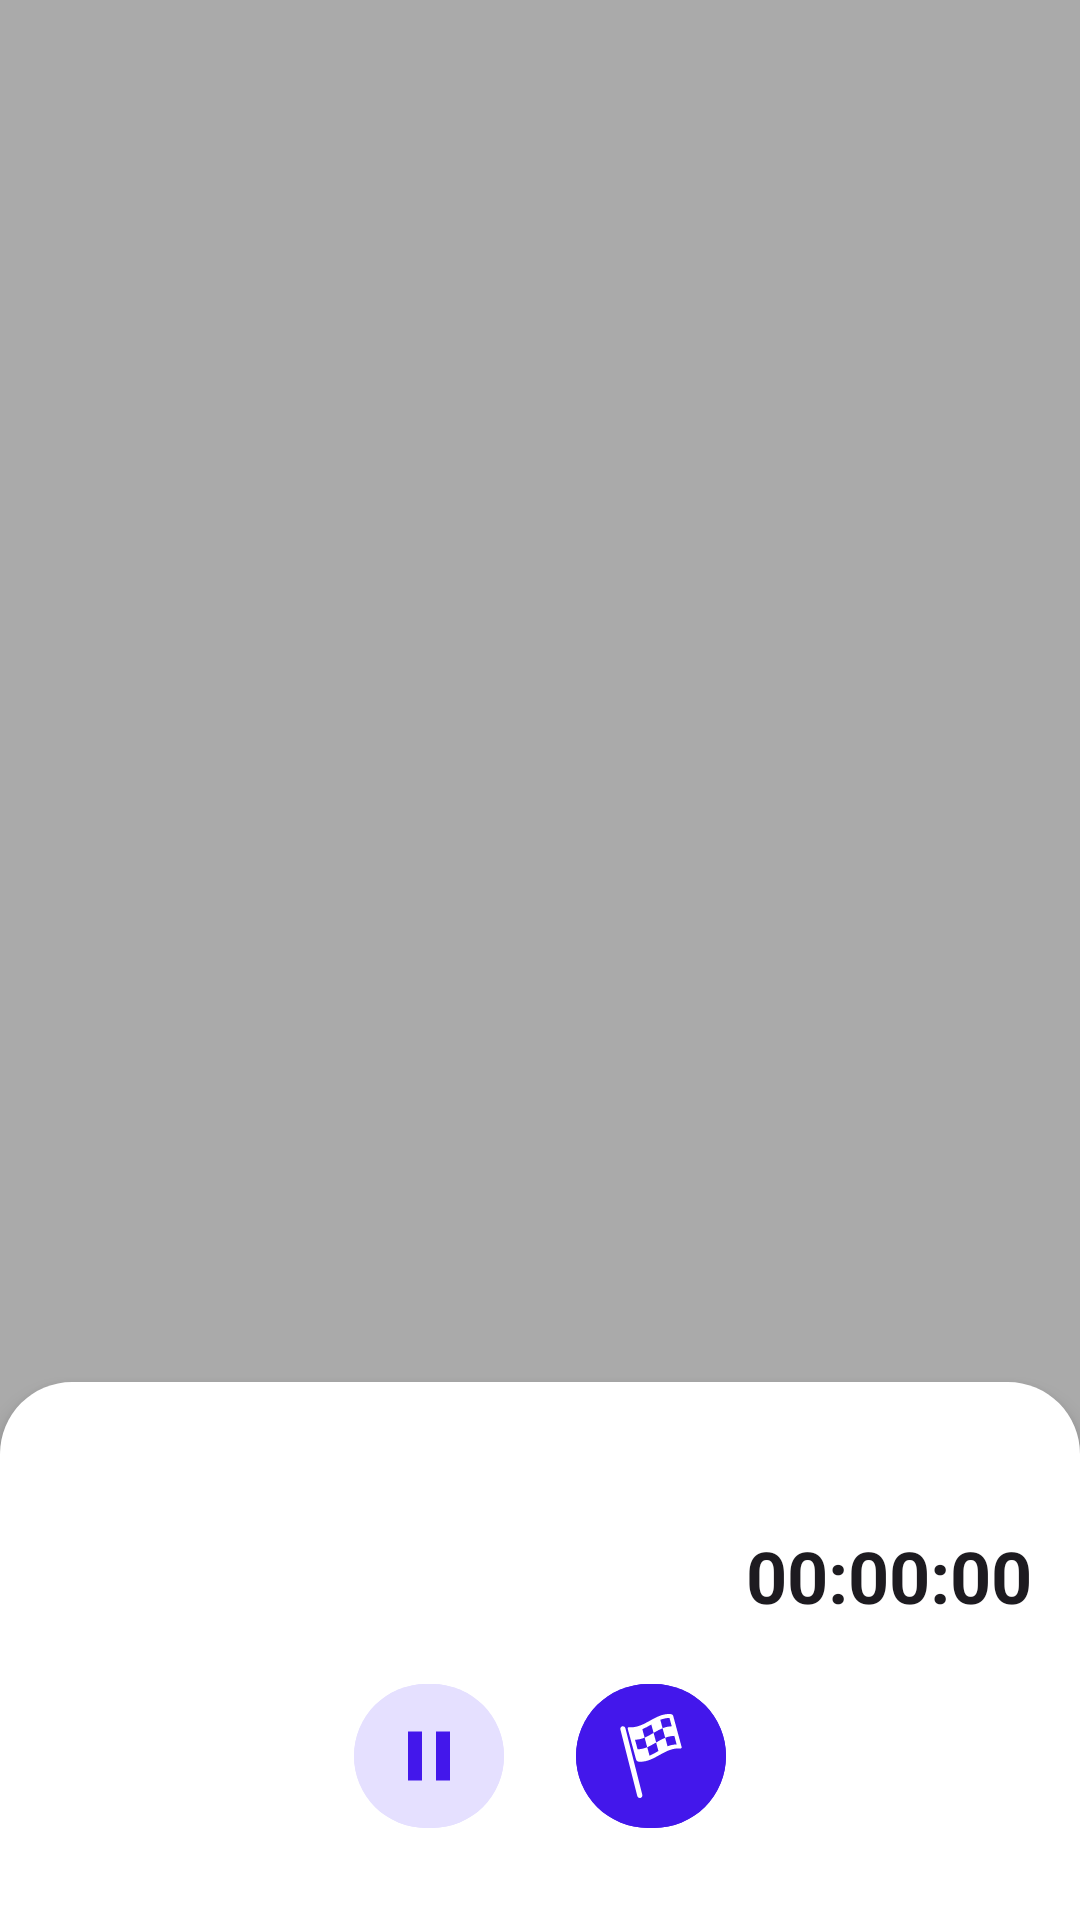

Named icons in this screenshot (1080 × 1920) and their bounding boxes, (x1, y1, x2, y2):
Пауза: (354, 1684, 504, 1828)
Финиш: (576, 1684, 726, 1828)
